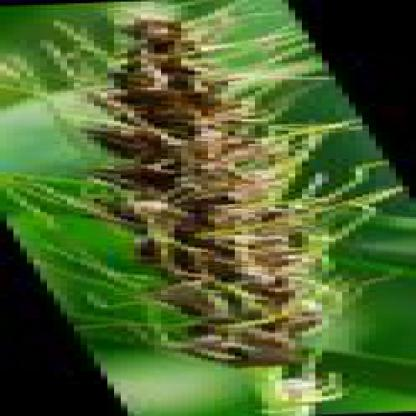Wheat Smut: (150, 239, 323, 276), (123, 162, 291, 195), (167, 285, 327, 314), (134, 197, 296, 224), (134, 127, 260, 156), (187, 324, 282, 358), (120, 85, 205, 117), (124, 54, 184, 77), (127, 26, 171, 43)
